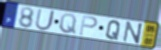8: (17, 6, 35, 29)
N: (122, 20, 144, 45)
P: (78, 14, 99, 37)
Q: (58, 13, 78, 36), (105, 19, 122, 41)
U: (34, 8, 57, 32)
